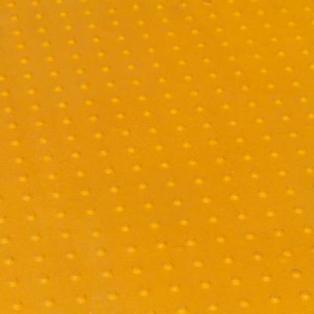Podoctatil: (2, 1, 311, 308)
